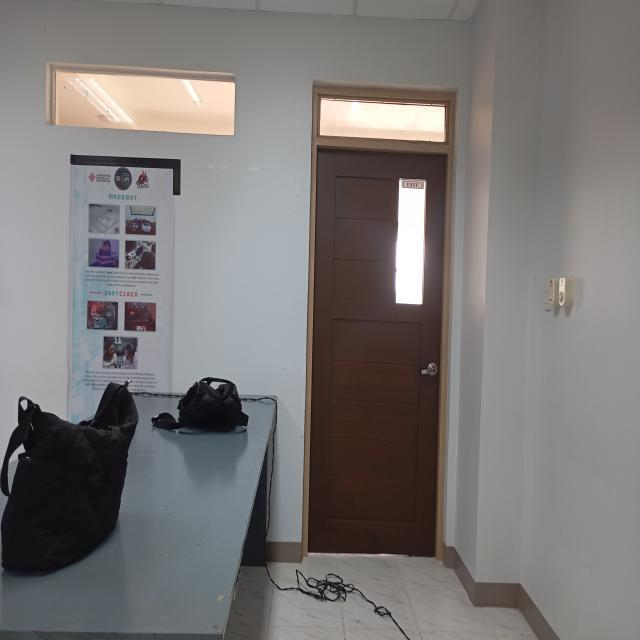door: (300, 63, 462, 570)
